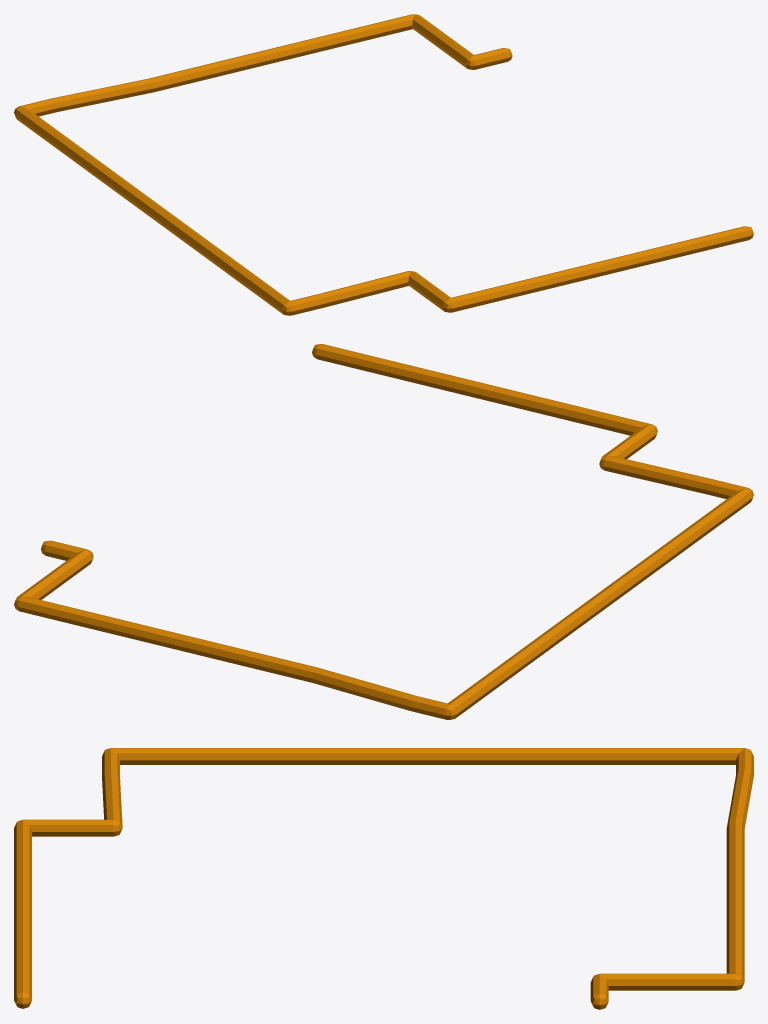
3 views of the same model, one above another, from view 1: azimuth 30°, elevation 25°; view 2: azimuth 150°, elevation 25°; view 3: azimuth 270°, elevation 25° (orthographic). The views are drawn at different scales.
Size of the model in its own units: 660 by 20 by 817.
